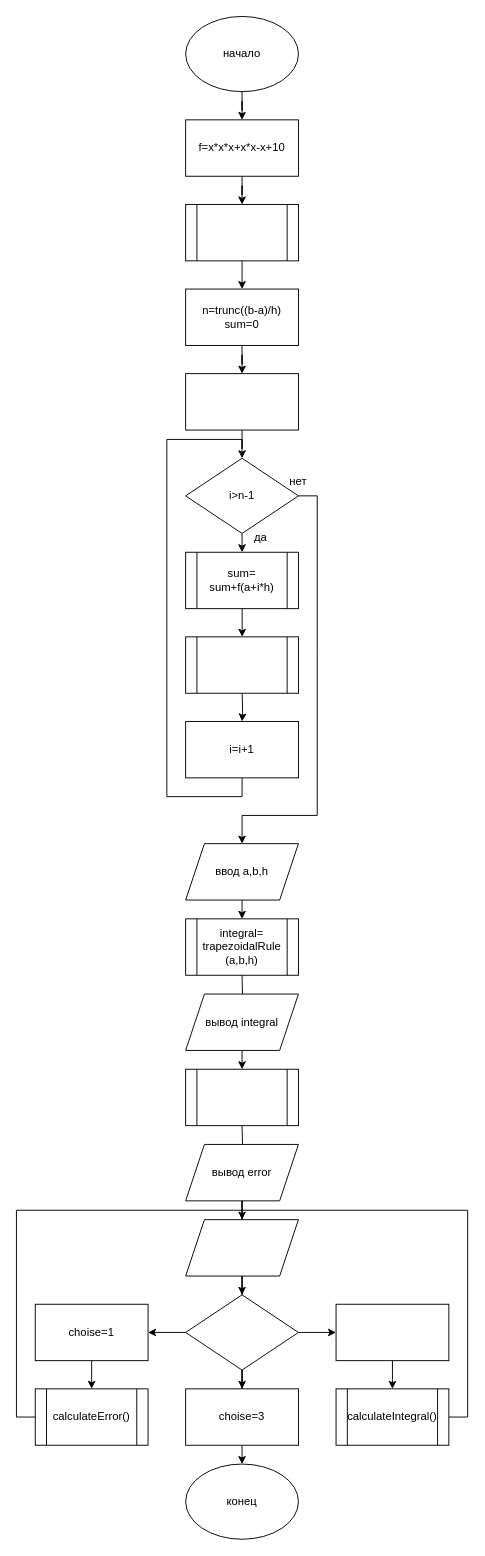
Image size: 485x1556. Some labels were removed from this diagram. Each missing label, with the centre of its shape:
choise=2: (x=392, y=1332)
cравнить choise: (x=241, y=1332)
error=(1/3)*(integral-trapezoidalRule (a,b,h/2): (x=241, y=1097)
i=1: (x=241, y=401)
trapezoidalRule (a,b,h:real): (x=241, y=232)
trapezoidalRule= h/2*(f(a)+2*sum+f(b)): (x=241, y=664)
ввод choice: (x=241, y=1247)
